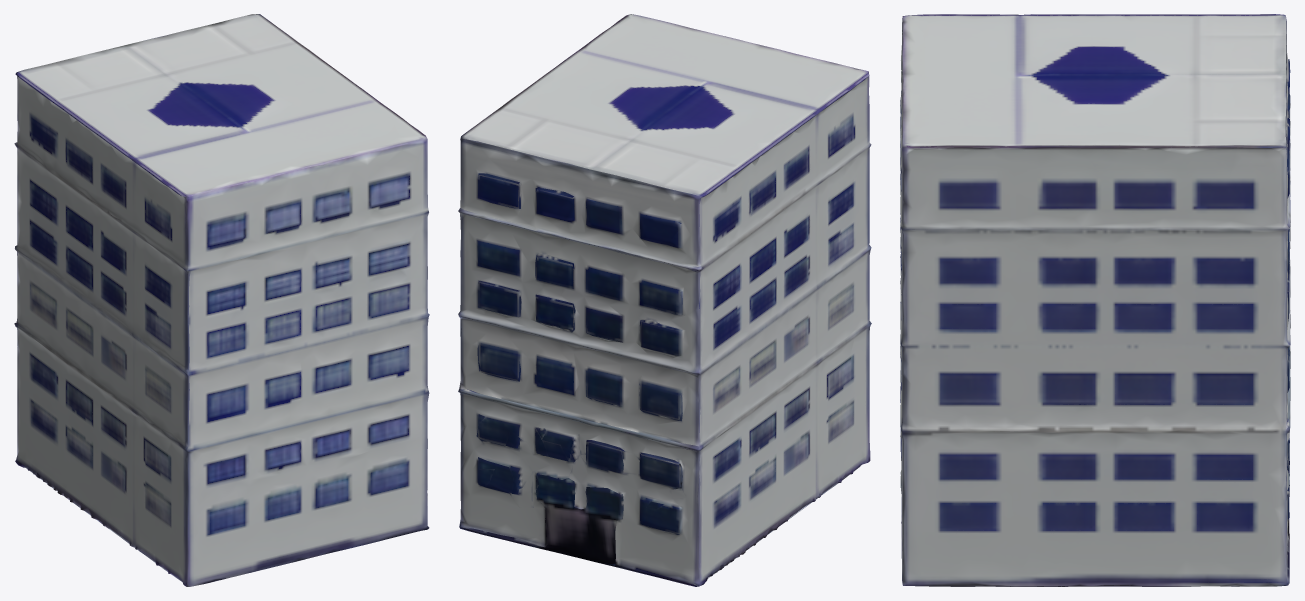
The model's file is building_generic_habitat_pilot_lod0_trellis2_dev.glb.
3 views of the same model, side by side, from view 1: azimuth 30°, elevation 25°; view 2: azimuth 150°, elevation 25°; view 3: azimuth 270°, elevation 25° (orthographic). The views are drawn at different scales.
Visible parts, largest first — view 1: geometry_0; view 2: geometry_0; view 3: geometry_0.
Boxes of the visible parts, left/top/right/bottom form: geometry_0: left=14, top=14, right=429, bottom=586; geometry_0: left=458, top=14, right=871, bottom=586; geometry_0: left=900, top=14, right=1290, bottom=586.
Size of the model in its own units: 0.4097 by 0.6279 by 0.5033.
1 material, 1 textured.
